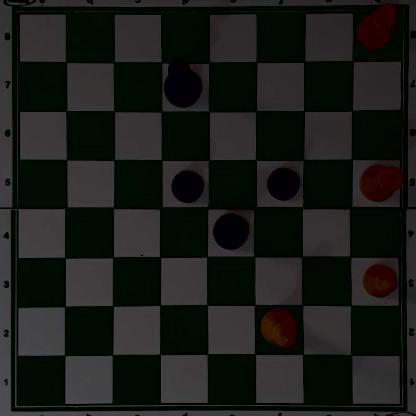black-king: (162, 57, 203, 106)
black-pawn: (266, 166, 299, 200), (171, 170, 203, 203)
black-rook: (214, 212, 248, 249)
white-bishop: (354, 1, 398, 49)
white-king: (258, 305, 297, 350)
white-pawn: (360, 261, 397, 298)
white-rook: (357, 164, 402, 201)
